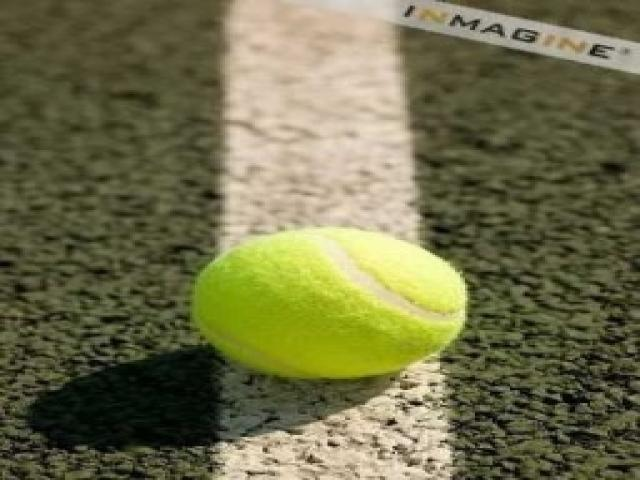tennis-ball: (194, 226, 466, 379)
